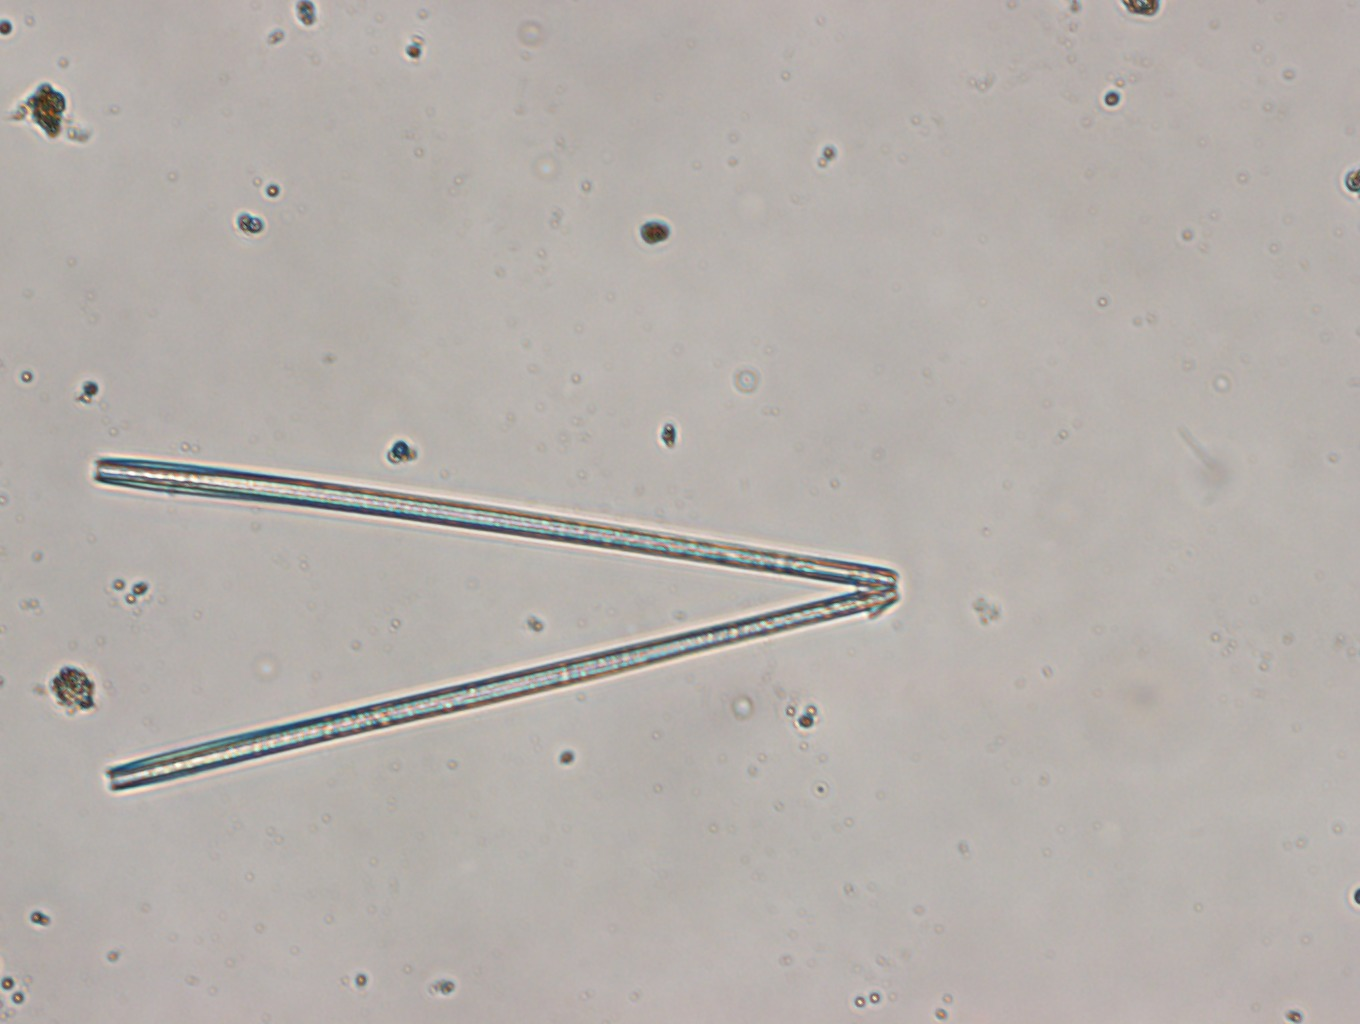thalassionema frauenfeldii: (82, 447, 910, 812)
